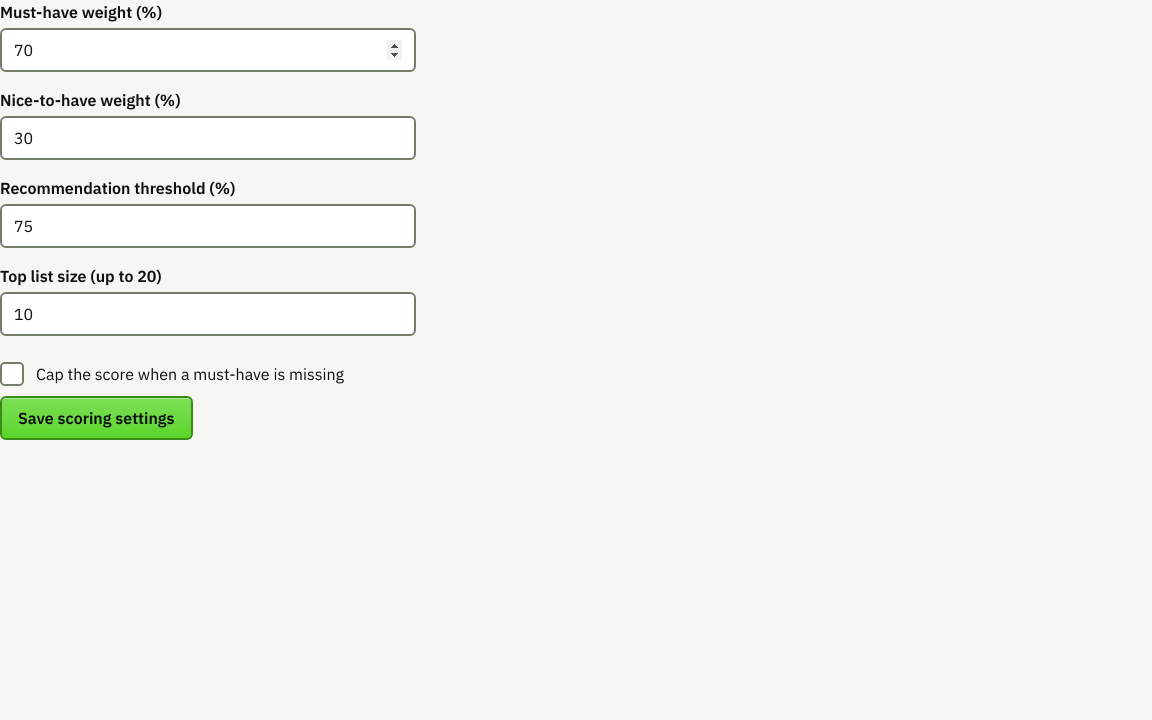
Test: scoring settings › a top list above the plan's cap opens the Upgrade popup
The image size is (1152, 720).
Expected: the number field showing "75" is shown, [0, 204, 416, 248]
Click the button "Save scoring settings".
click(96, 418)  # box [0, 396, 192, 440]
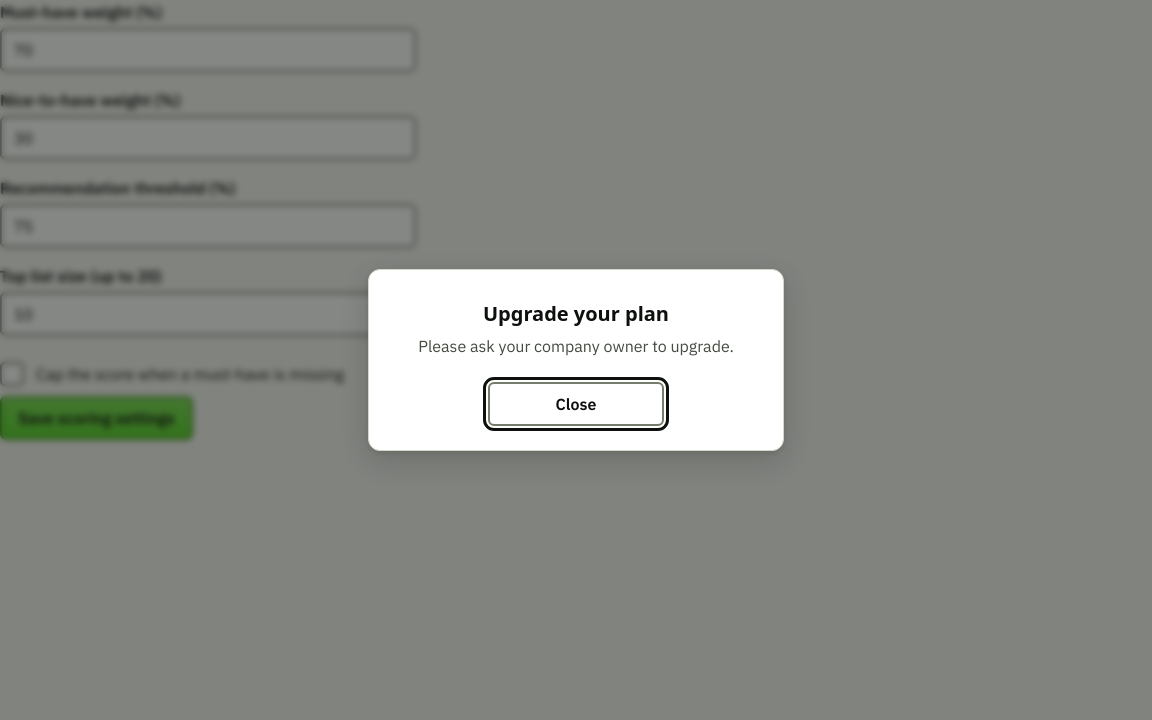
Expected: the heading "Upgrade your plan" is shown, [483, 300, 669, 327]
